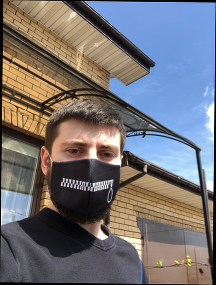with_mask: (47, 134, 123, 224)
